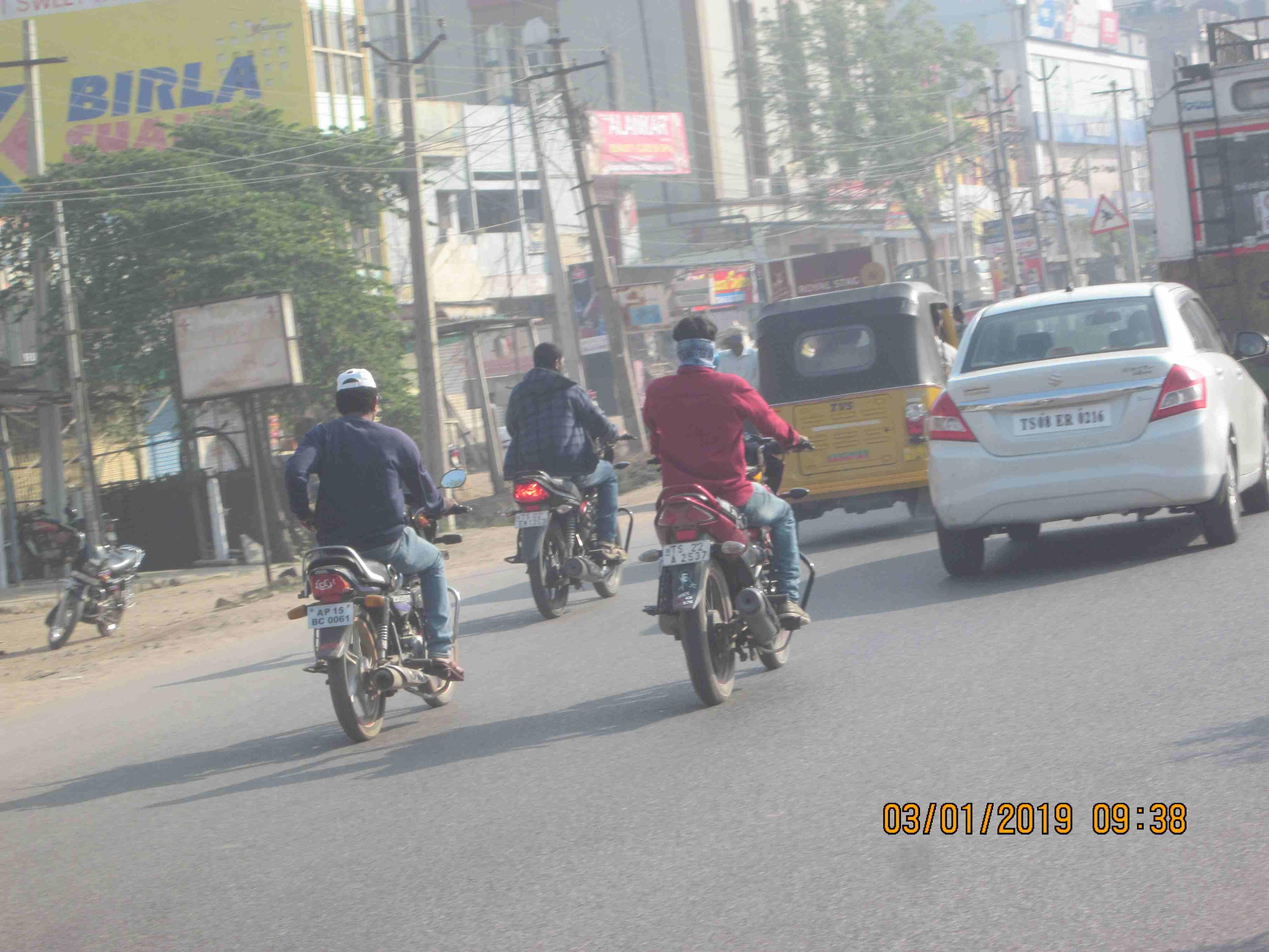plate: (658, 538, 717, 571), (308, 596, 361, 631)
